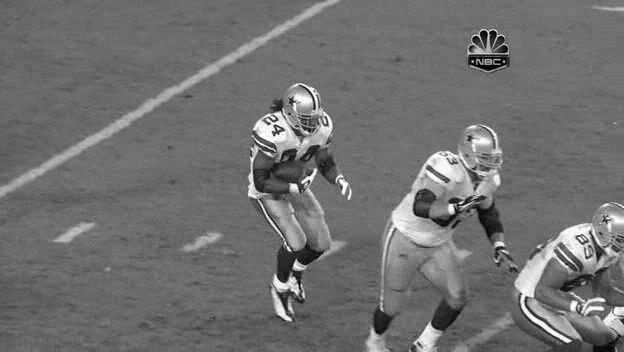person: (287, 84, 323, 133), (286, 84, 322, 133), (288, 84, 324, 133), (287, 83, 323, 132), (287, 85, 323, 134)
target_negative: (78, 124, 601, 321), (321, 159, 558, 331), (53, 265, 294, 334), (488, 84, 583, 162), (569, 3, 576, 277), (41, 329, 317, 330)
